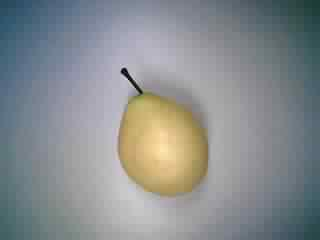pear: (104, 65, 216, 204)
